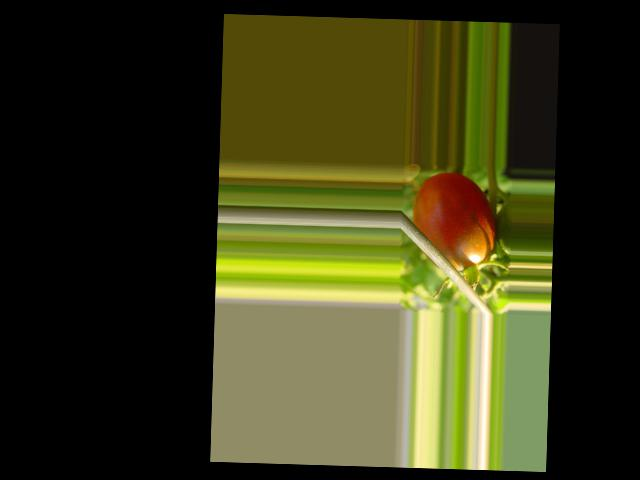tomato: (412, 172, 496, 271)
